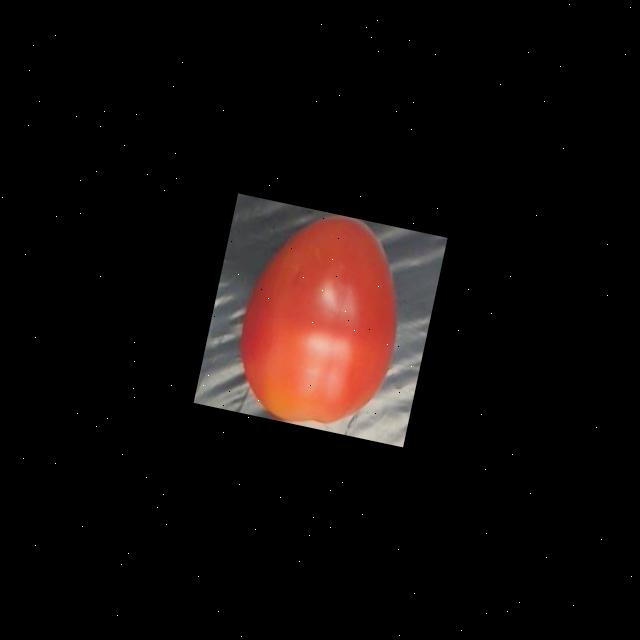tomato: (220, 198, 426, 442)
